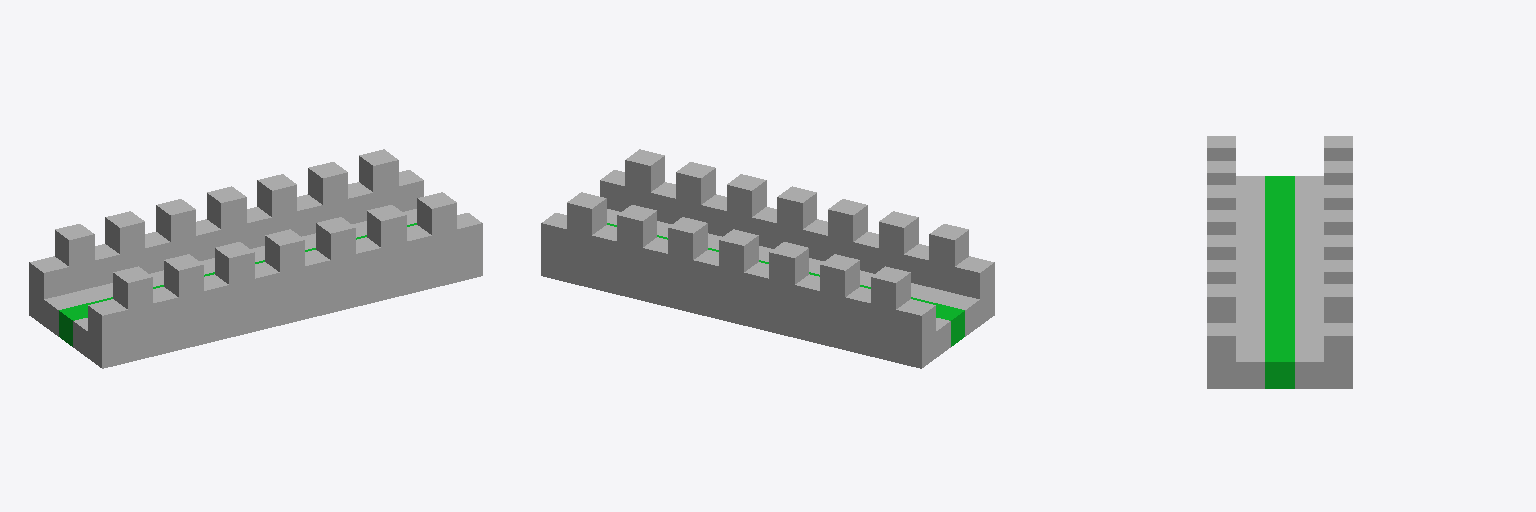
3 renders of one model, left to right at view 1: azimuth 30°, elevation 25°; view 2: azimuth 150°, elevation 25°; view 3: azimuth 270°, elevation 25°, orthographic.
Bounding box in the file's own units: 15 × 3 × 5.
Materials: 1 (1 with a texture image).